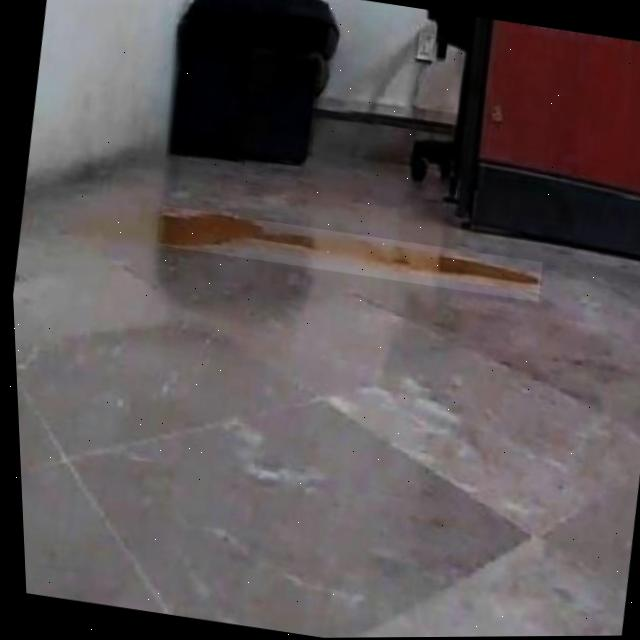spillage: (156, 212, 537, 286)
